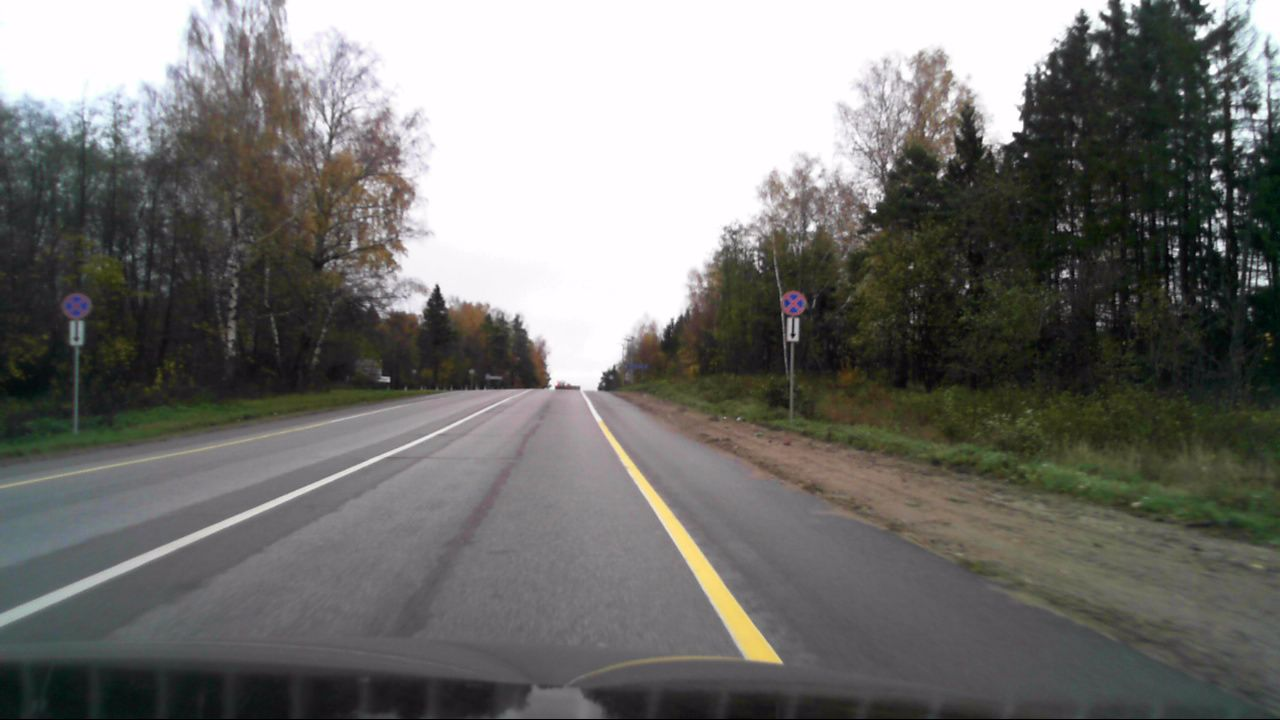No Parking: (64, 293, 91, 320)
